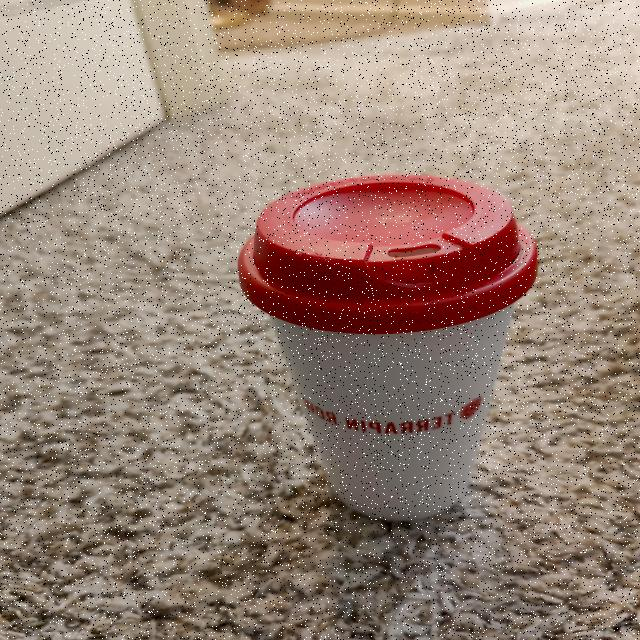mug: (245, 184, 536, 522)
